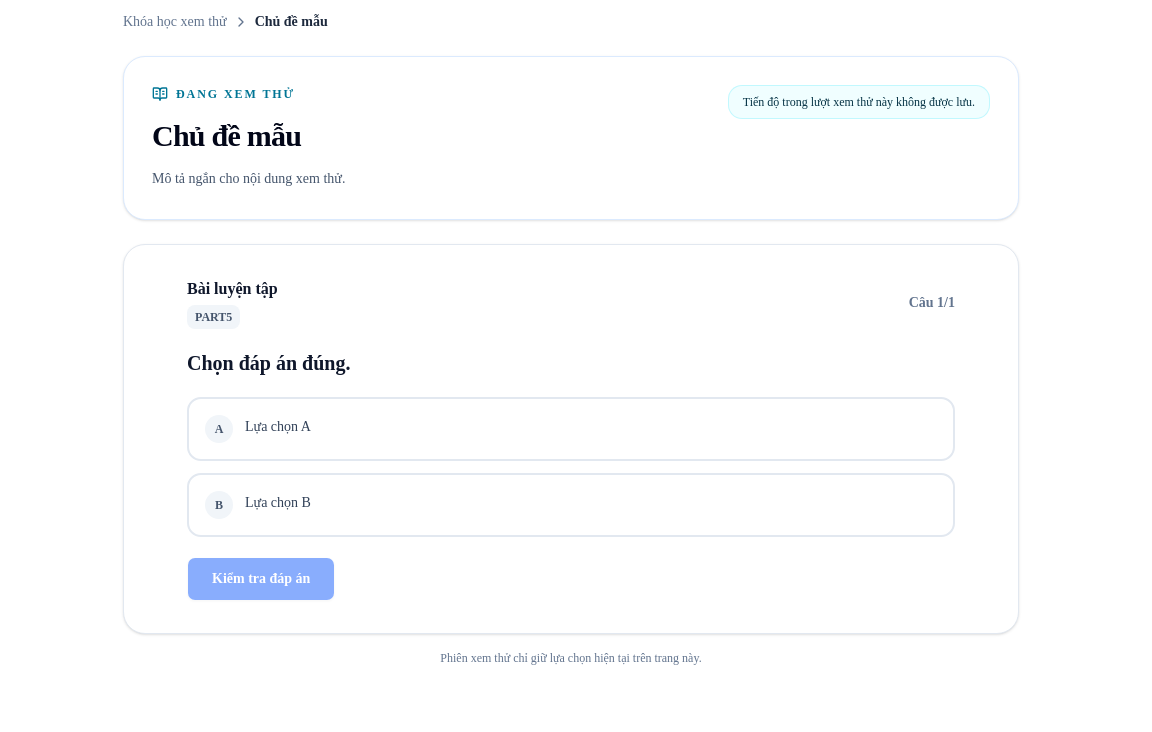
public course Preview experience › allows completing the preview when final question is answered incorrectly via 'Bỏ qua và hoàn thành'
Click the button with aria-label "A. Lựa chọn A".
click(278, 426)  # box [187, 396, 955, 460]
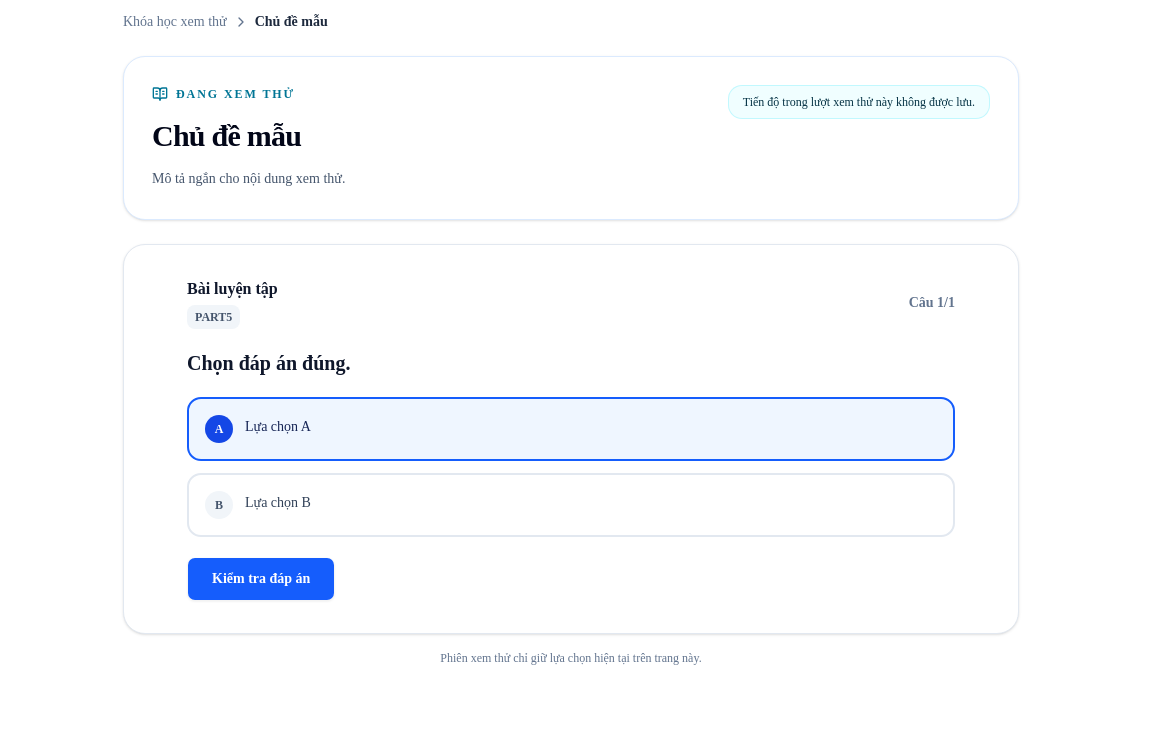
Click the button "Kiểm tra đáp án".
click(261, 578)  # box [187, 556, 335, 600]
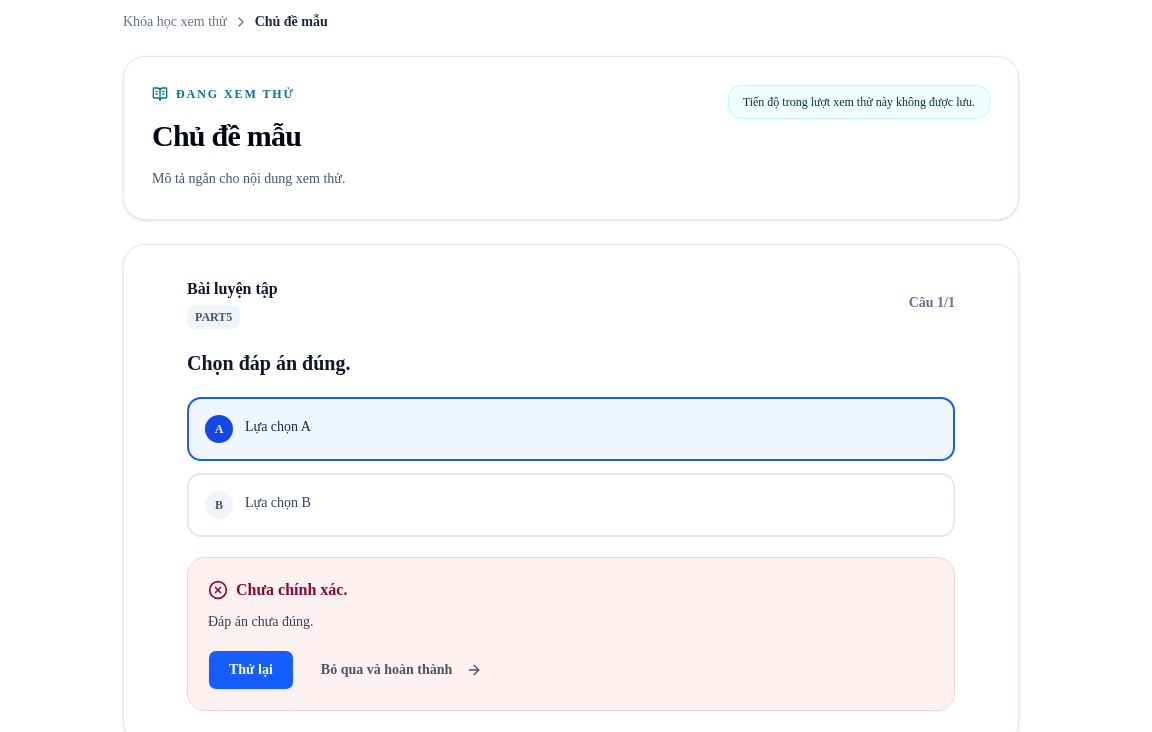
Expected: the text "Chưa chính xác." is shown, [208, 580, 347, 600]
Expected: the text "Đáp án chưa đúng." is shown, [208, 614, 314, 628]
Expected: the button "Bỏ qua và hoàn thành" is shown
Click the button "Bỏ qua và hoàn thành".
click(402, 670)  # box [306, 650, 497, 690]
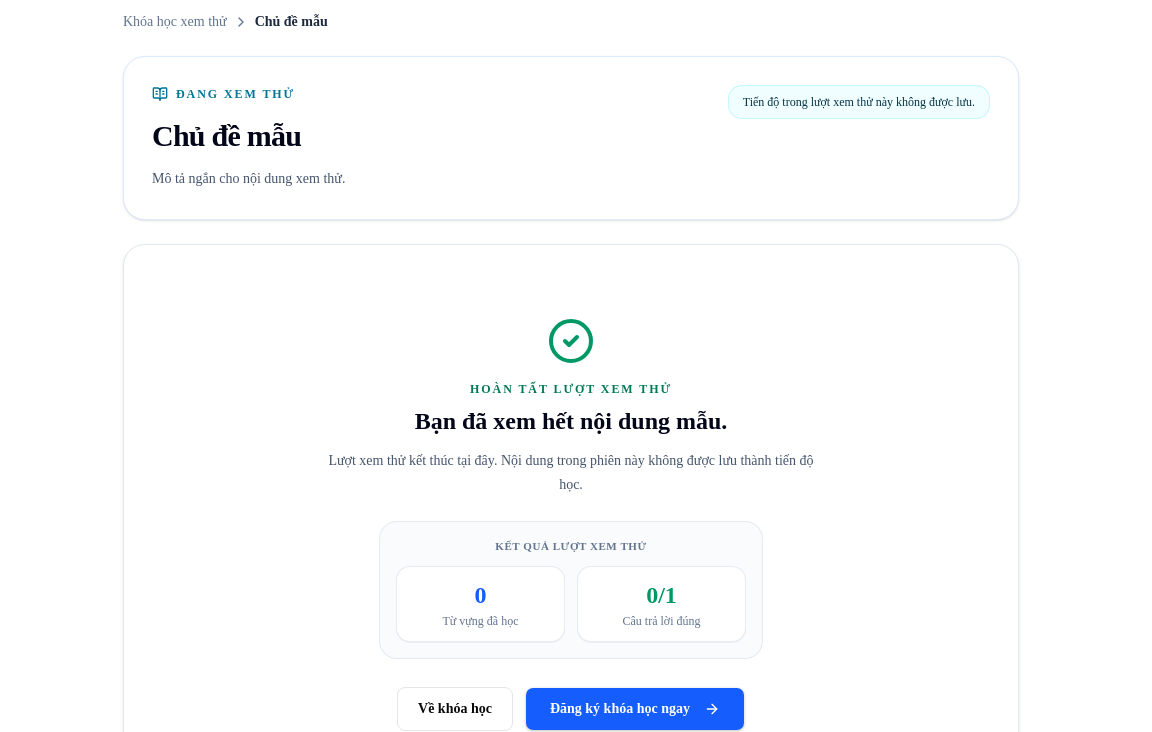
Expected: the heading "Bạn đã xem hết nội dung mẫu." is shown, [415, 408, 727, 434]
Expected: the text "0/1" is shown, [646, 582, 677, 608]
